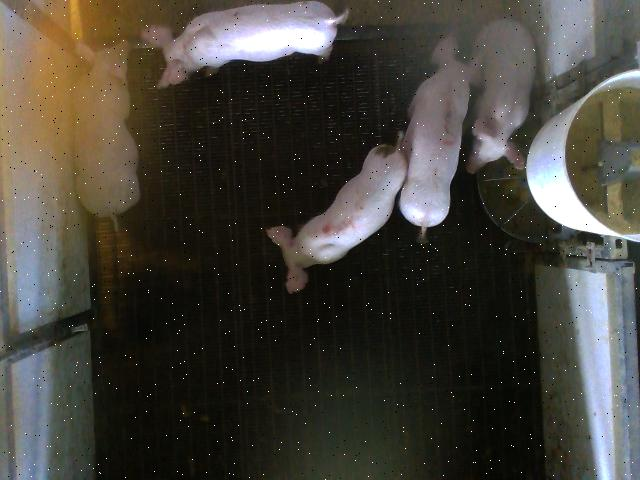pig-3: (399, 37, 479, 243)
pig-4: (74, 41, 140, 230)
pig-5: (266, 133, 408, 294)
